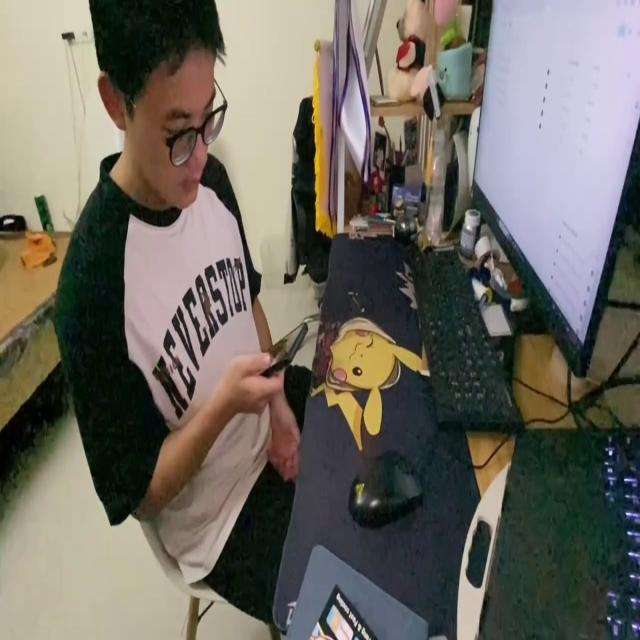laptop: (468, 0, 640, 388)
phone: (260, 314, 309, 375)
student: (56, 11, 311, 613)
